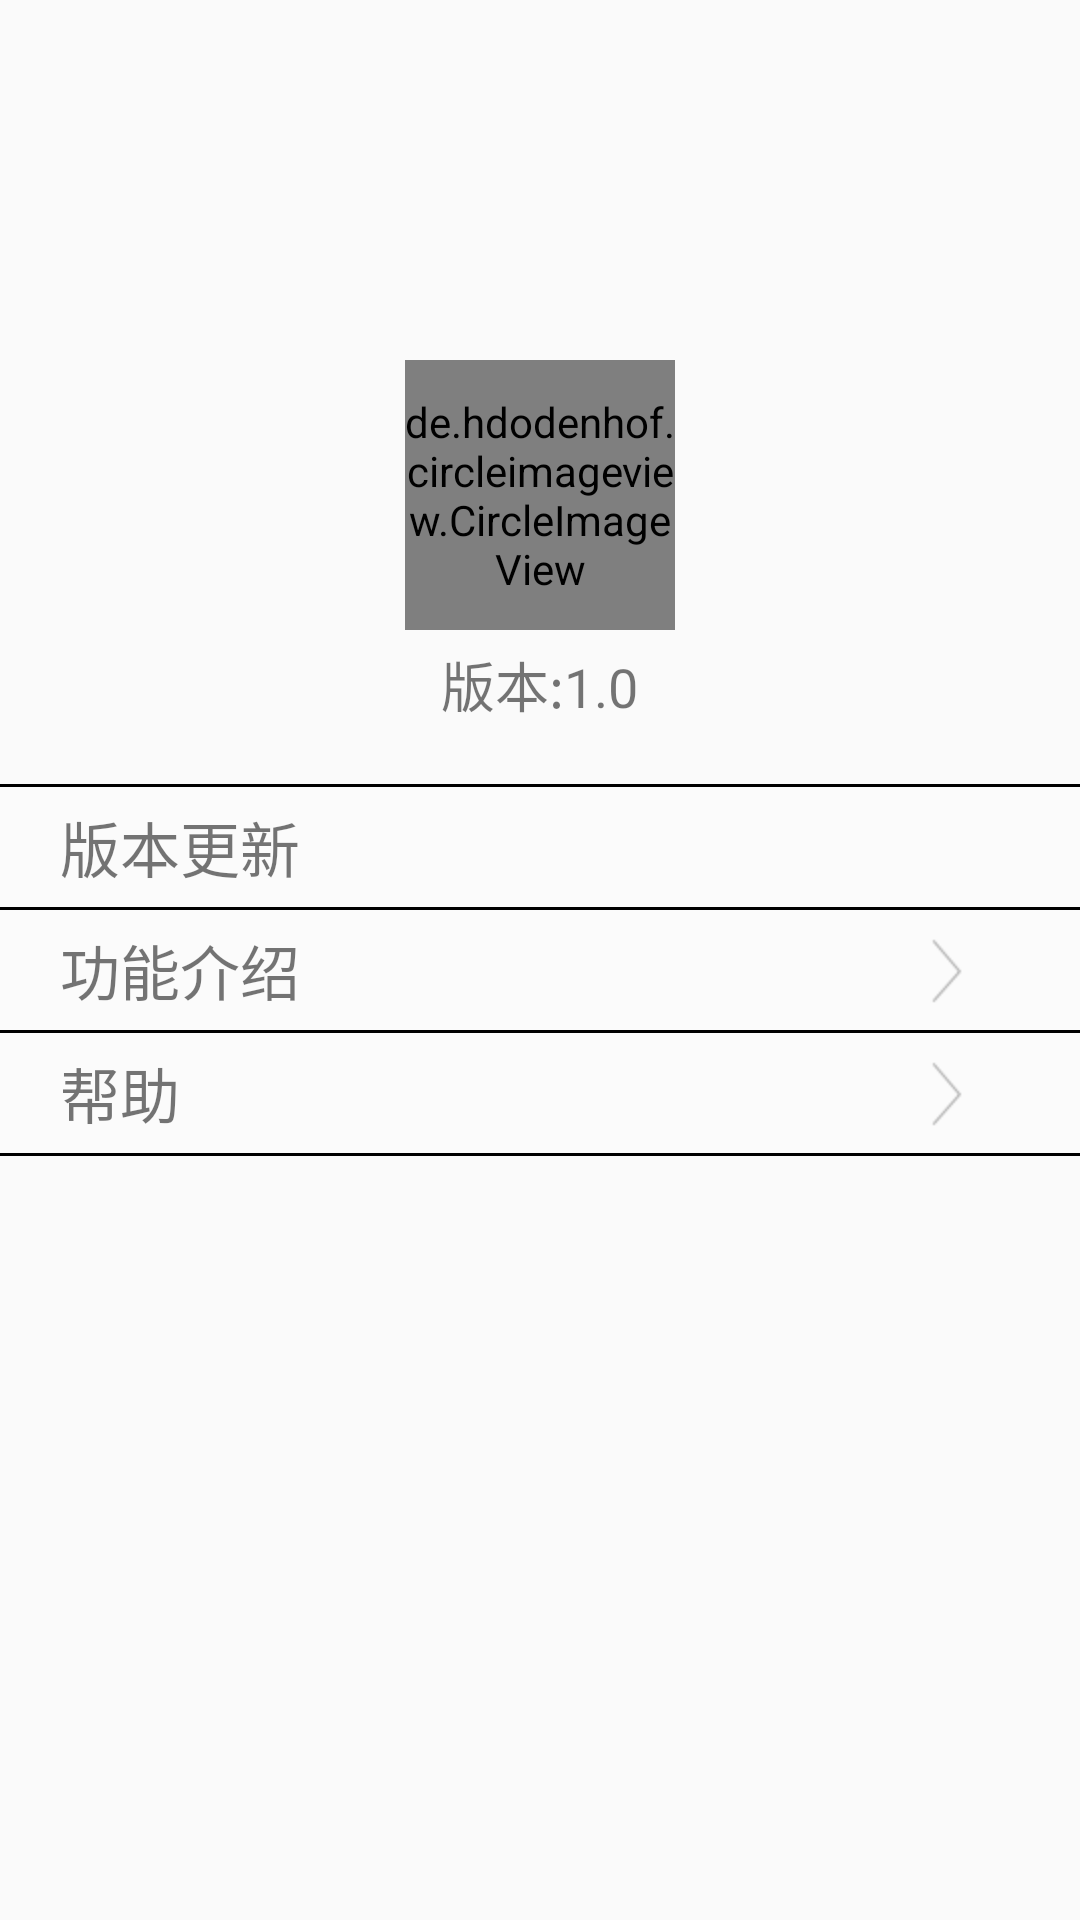

Named icons in this screenshot (1080px x 1920px) and their centers, (x=x, y=y):
arrow right: (x=947, y=971), (x=947, y=1094)
